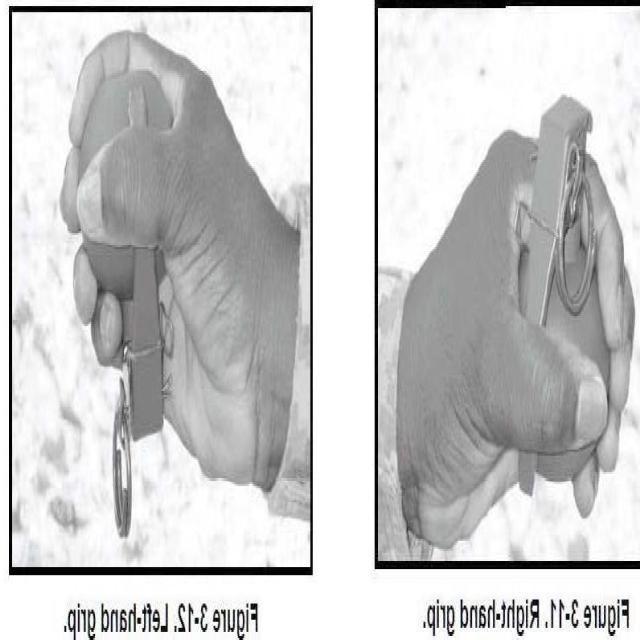grenade: (79, 70, 177, 537), (516, 94, 612, 499)
